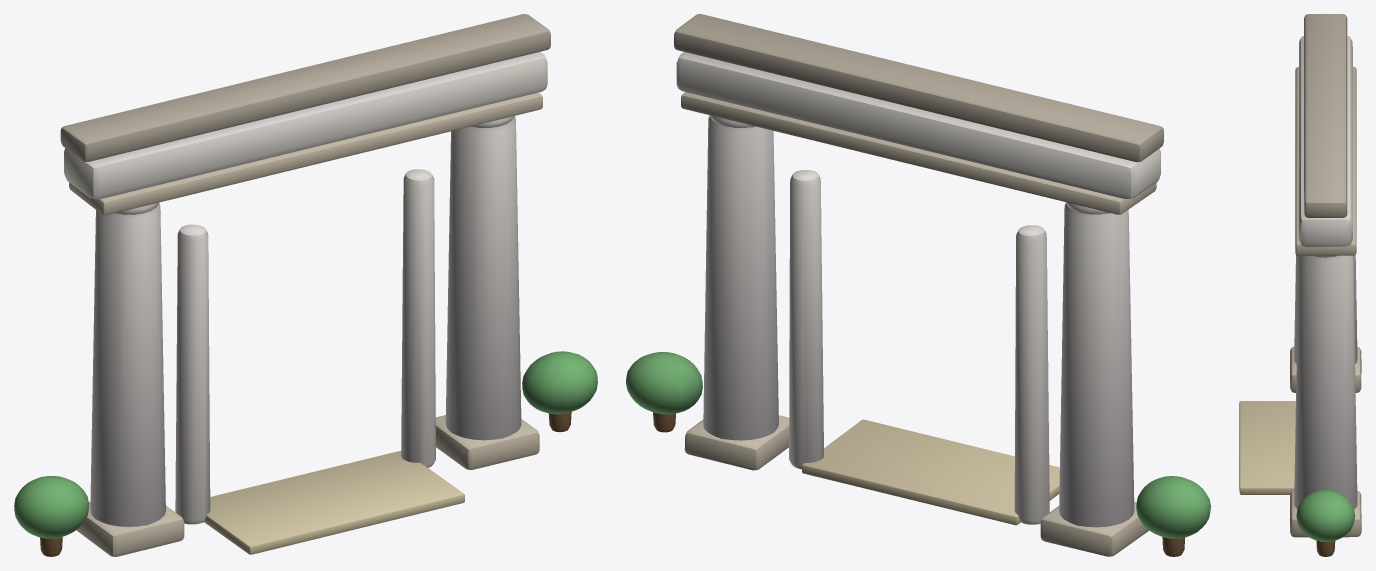
3 renders of one model, left to right at view 1: azimuth 30°, elevation 25°; view 2: azimuth 150°, elevation 25°; view 3: azimuth 270°, elevation 25°, orthographic. The views are drawn at different scales.
Parts seen in each view (by area): view 1: gate_e4e52739; view 2: gate_e4e52739; view 3: gate_e4e52739.
Part boxes in pixels (x1,y1,x2,y2): gate_e4e52739: (14,14,597,556); gate_e4e52739: (626,14,1210,556); gate_e4e52739: (1239,14,1361,556).
Size of the model in its own units: 6.4 by 4.41 by 1.41.
